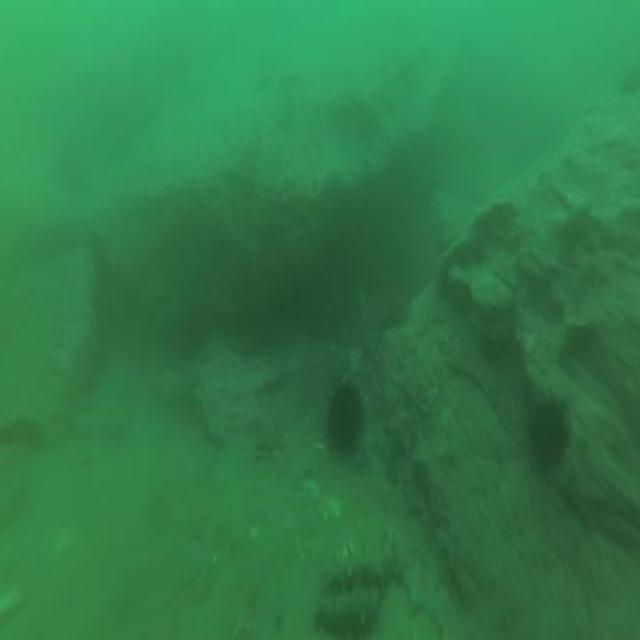echinus: (526, 386, 575, 480), (326, 376, 366, 460), (616, 60, 640, 101)
holothurian: (318, 526, 398, 598), (311, 583, 386, 640)
